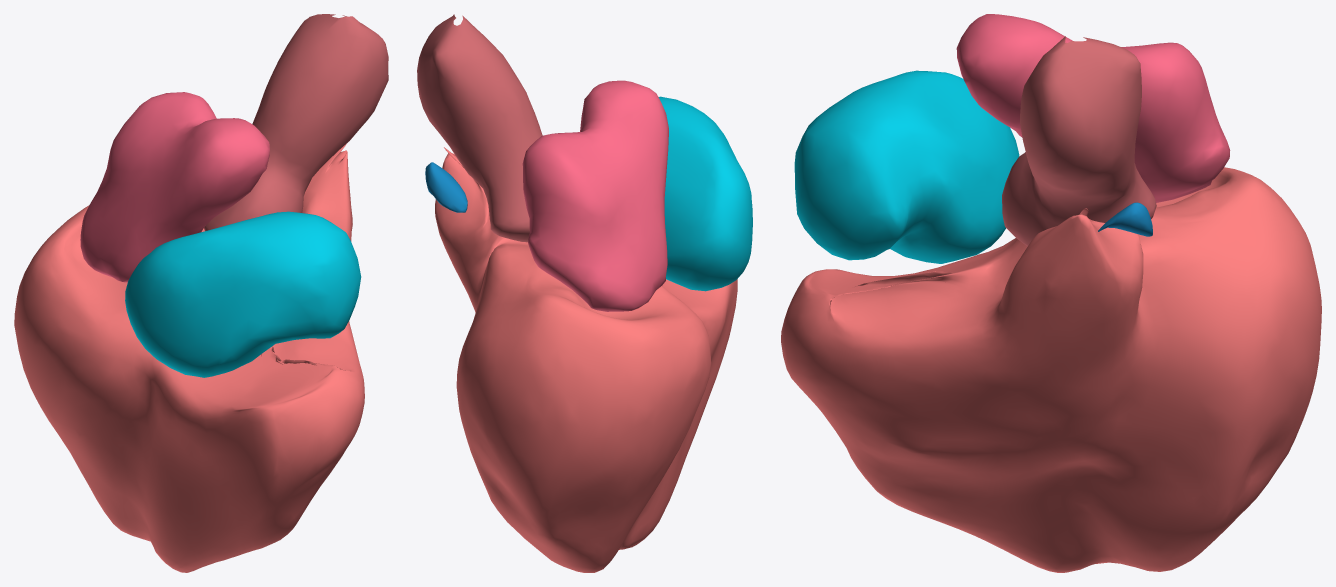
Rendered from frame_36.glb.
3 renders of one model, left to right at view 1: azimuth 30°, elevation 25°; view 2: azimuth 150°, elevation 25°; view 3: azimuth 270°, elevation 25°, orthographic. The views are drawn at different scales.
Parts seen in each view (by area): view 1: Renderer Node; view 2: Renderer Node; view 3: Renderer Node.
Boxes of the visible parts, box(x1,y1,x2,y2) form: Renderer Node: box(14, 14, 388, 572); Renderer Node: box(417, 14, 752, 572); Renderer Node: box(781, 14, 1321, 572).
Size of the model in its own units: 100 by 157 by 121.
